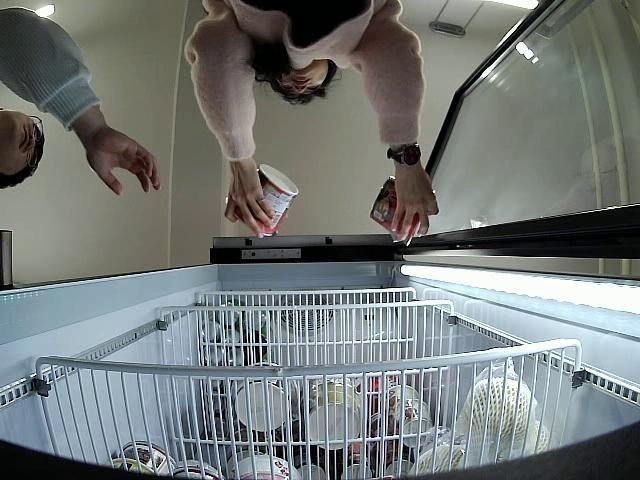01_ShinRamen_L: (246, 161, 302, 240), (368, 172, 422, 246)
